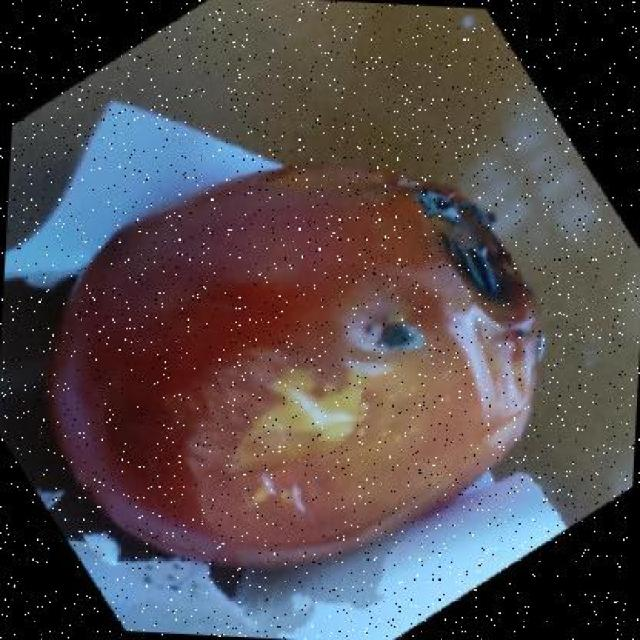overripe tomato: (41, 148, 548, 577)
